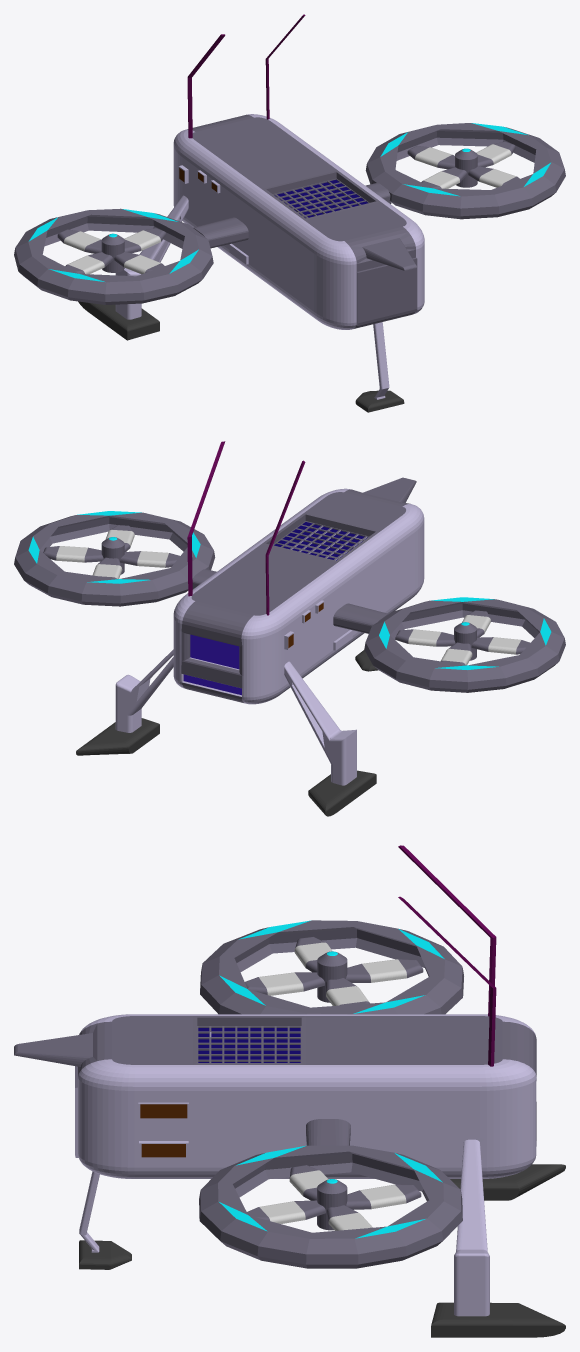
Rendered from LitakYarika.fbx.
3 views of the same model, one above another, from view 1: azimuth 30°, elevation 25°; view 2: azimuth 150°, elevation 25°; view 3: azimuth 270°, elevation 25° (orthographic). The views are drawn at different scales.
Visible parts, largest first — view 1: Plane, Plane.003, Plane.001, Plane.002, Plane.004; view 2: Plane, Plane.003, Plane.001, Plane.002, Plane.004; view 3: Plane, Plane.001, Plane.003, Plane.002, Plane.004.
Boxes of the visible parts, box(x1,y1,x2,y2) form: Plane: box(78, 14, 424, 412); Plane.003: box(14, 208, 213, 304); Plane.001: box(365, 123, 565, 219); Plane.002: box(57, 228, 166, 274); Plane.004: box(407, 141, 519, 188); Plane: box(76, 441, 424, 816); Plane.003: box(364, 597, 565, 692); Plane.001: box(14, 511, 215, 606); Plane.002: box(395, 610, 530, 665); Plane.004: box(43, 525, 179, 578); Plane: box(14, 845, 565, 1337); Plane.001: box(199, 1145, 462, 1268); Plane.003: box(200, 920, 463, 1014); Plane.002: box(245, 937, 423, 1005); Plane.004: box(247, 1165, 421, 1230).
Size of the model in its own units: 585 by 315 by 408.
